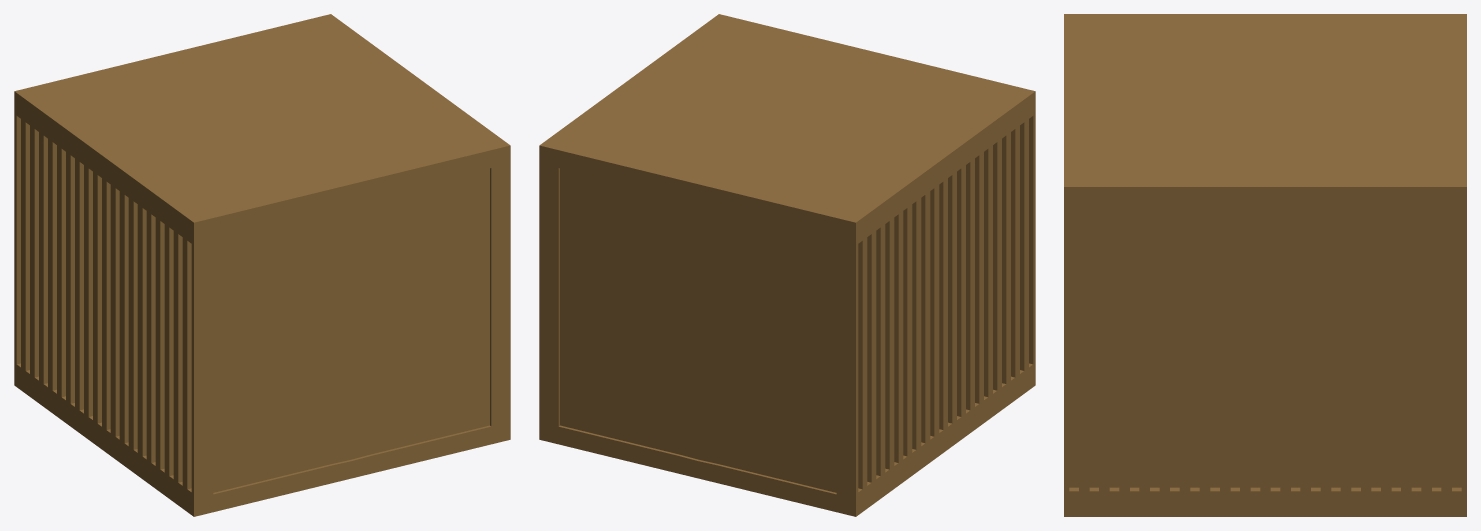
The model's file is SCargoModel02.fbx.
The picture shows the model from 3 angles, left to right: view 1: azimuth 30°, elevation 25°; view 2: azimuth 150°, elevation 25°; view 3: azimuth 270°, elevation 25°; orthographic projection. The views are drawn at different scales.
Visible parts, largest first — view 1: SCargoModel02; view 2: SCargoModel02; view 3: SCargoModel02.
Boxes of the visible parts, <box> form: SCargoModel02: <box>14,14,510,516</box>; SCargoModel02: <box>539,14,1035,516</box>; SCargoModel02: <box>1064,14,1466,516</box>.
Bounding box in the file's own units: 288 × 255 × 283.
